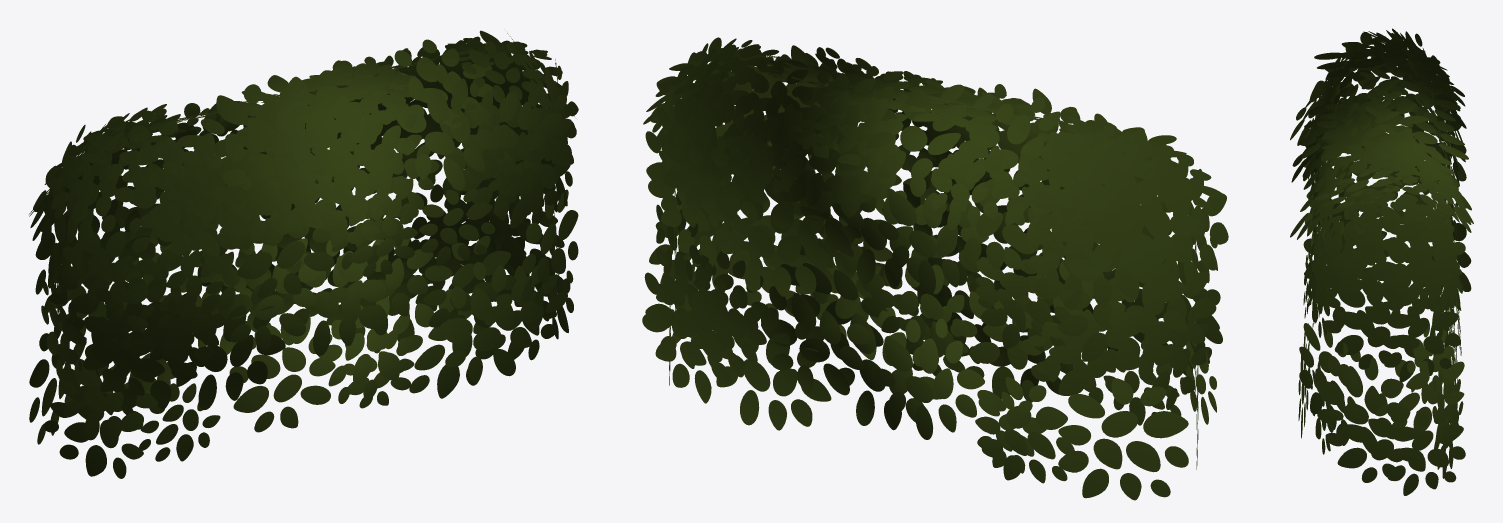
Rendered from bush_large.glb.
The picture shows the model from 3 angles, left to right: view 1: azimuth 30°, elevation 25°; view 2: azimuth 150°, elevation 25°; view 3: azimuth 270°, elevation 25°; orthographic projection. The views are drawn at different scales.
Visible parts, largest first — view 1: Bush_Large2; view 2: Bush_Large2; view 3: Bush_Large2.
Boxes of the visible parts, bbox=[...] form: Bush_Large2: bbox=[29, 30, 578, 478]; Bush_Large2: bbox=[642, 37, 1228, 500]; Bush_Large2: bbox=[1290, 28, 1473, 495].
Size of the model in its own units: 1.9 by 1.22 by 0.7238.
1 material, 1 textured.
